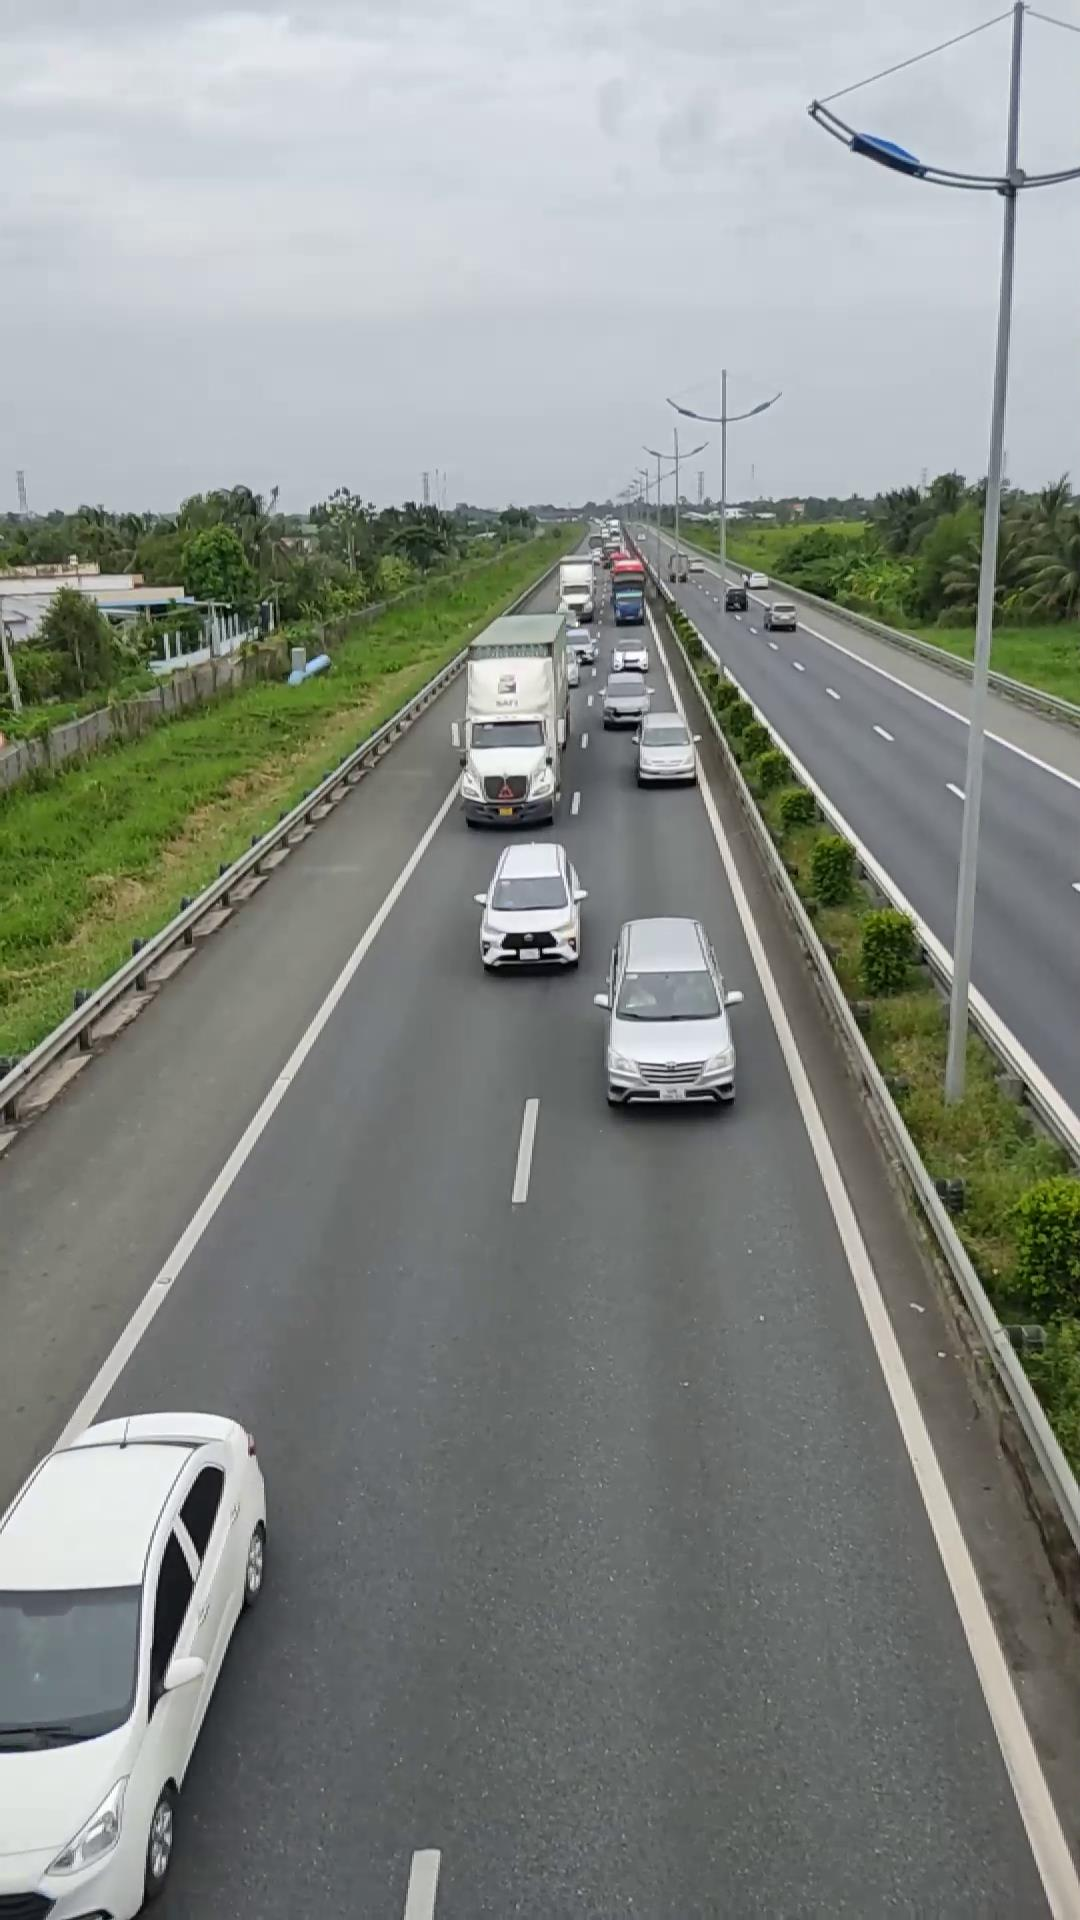car: (0, 1406, 270, 1920), (597, 913, 740, 1108), (475, 839, 588, 972), (634, 711, 700, 785)
container: (452, 607, 574, 825)
